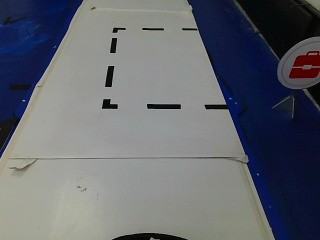company: (274, 37, 317, 92)
